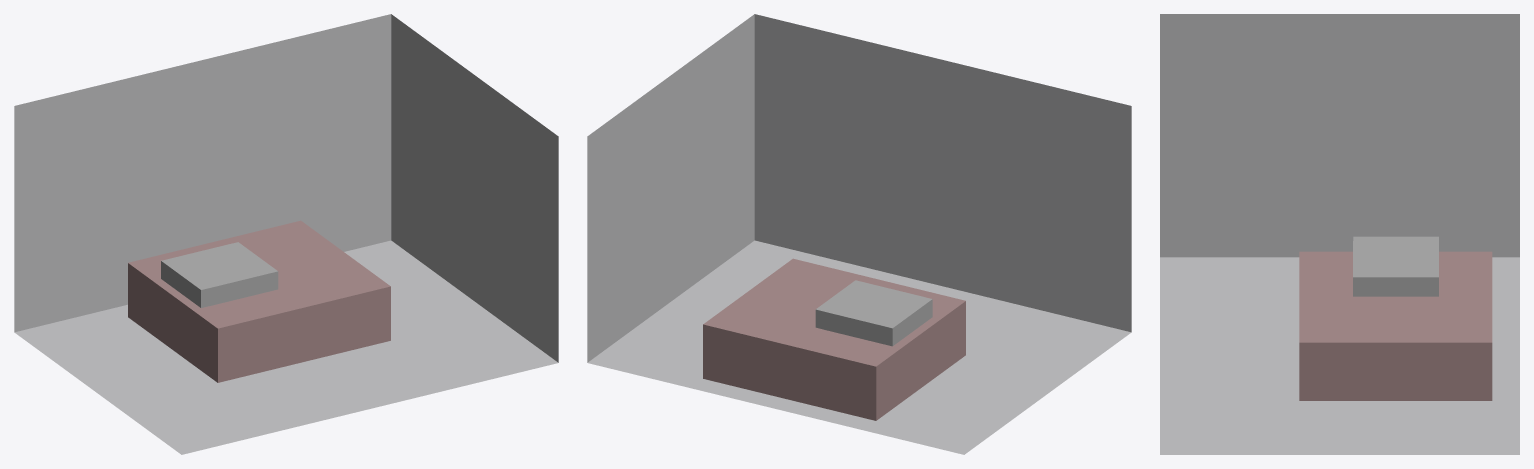
File: current_layout.glb
3 renders of one model, left to right at view 1: azimuth 30°, elevation 25°; view 2: azimuth 150°, elevation 25°; view 3: azimuth 270°, elevation 25°, orthographic. The views are drawn at different scales.
Parts seen in each view (by area): view 1: room, bed, beds, tables; view 2: room, bed, beds; view 3: room, bed, tables, beds.
Boxes of the visible parts, x1=… form: room: x1=14, y1=14, x2=558, y2=454; bed: x1=128, y1=220, x2=390, y2=382; beds: x1=161, y1=244, x2=269, y2=307; tables: x1=169, y1=242, x2=278, y2=306; room: x1=587, y1=14, x2=1131, y2=454; bed: x1=703, y1=258, x2=965, y2=420; beds: x1=823, y1=282, x2=932, y2=346; room: x1=1160, y1=14, x2=1519, y2=454; bed: x1=1299, y1=251, x2=1492, y2=400; tables: x1=1353, y1=241, x2=1438, y2=296; beds: x1=1353, y1=236, x2=1438, y2=272.
Bounding box in the file's own units: 4.36 × 2.5 × 3.35.
